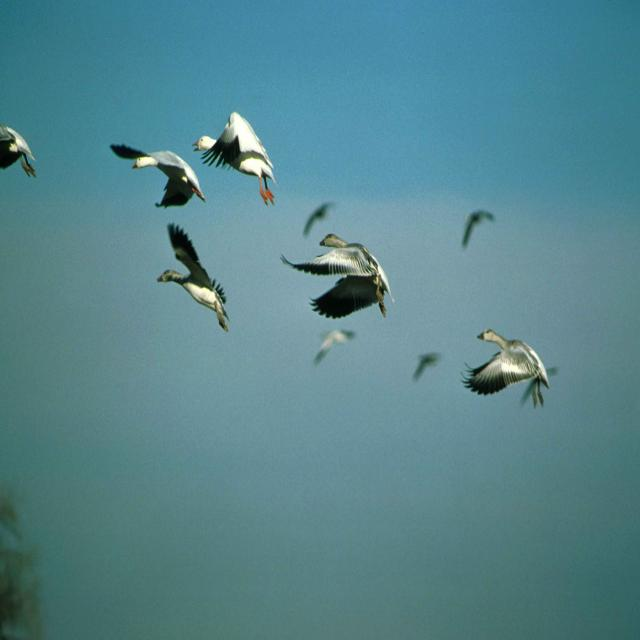bird: (280, 230, 394, 325), (155, 227, 234, 332), (190, 110, 278, 204), (456, 330, 551, 408), (108, 147, 209, 211), (312, 316, 358, 369), (0, 129, 39, 180), (458, 209, 500, 255), (299, 193, 338, 235), (411, 351, 444, 388)
